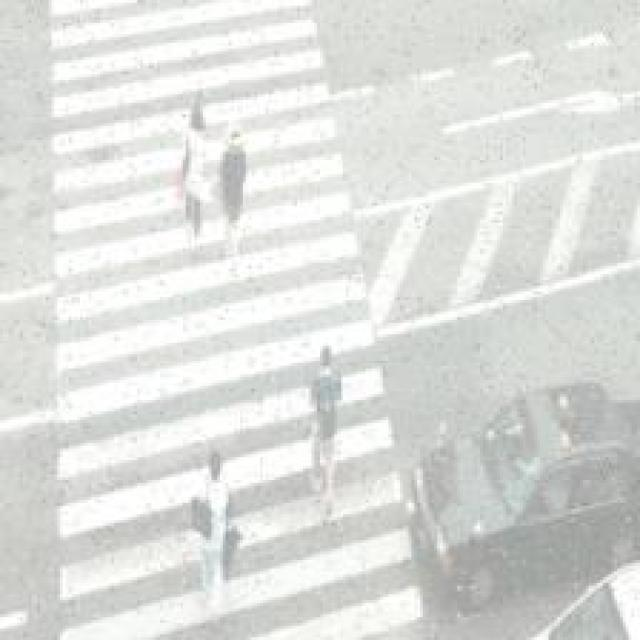zebra: (46, 10, 418, 637)
